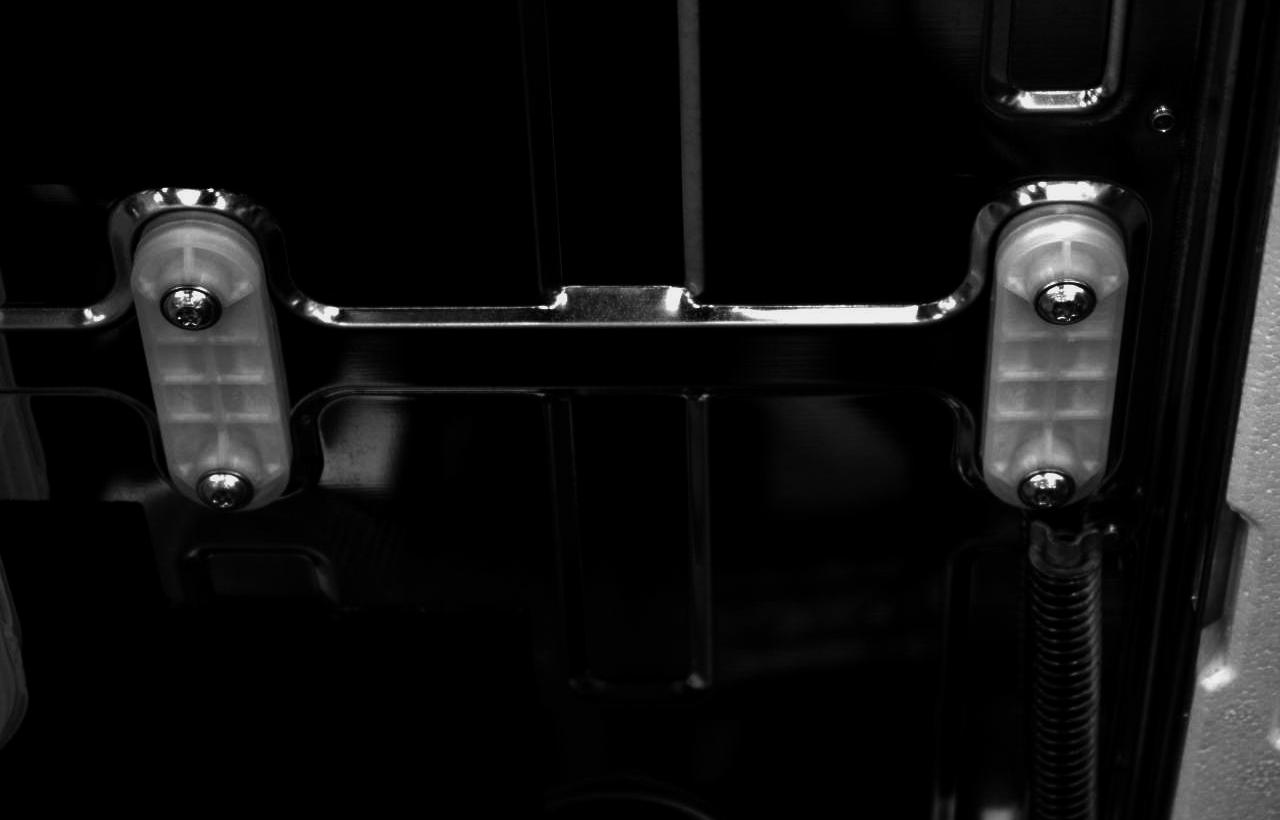vida-ok: (153, 274, 224, 341), (1033, 268, 1100, 335), (190, 458, 256, 517), (1016, 457, 1081, 515)
